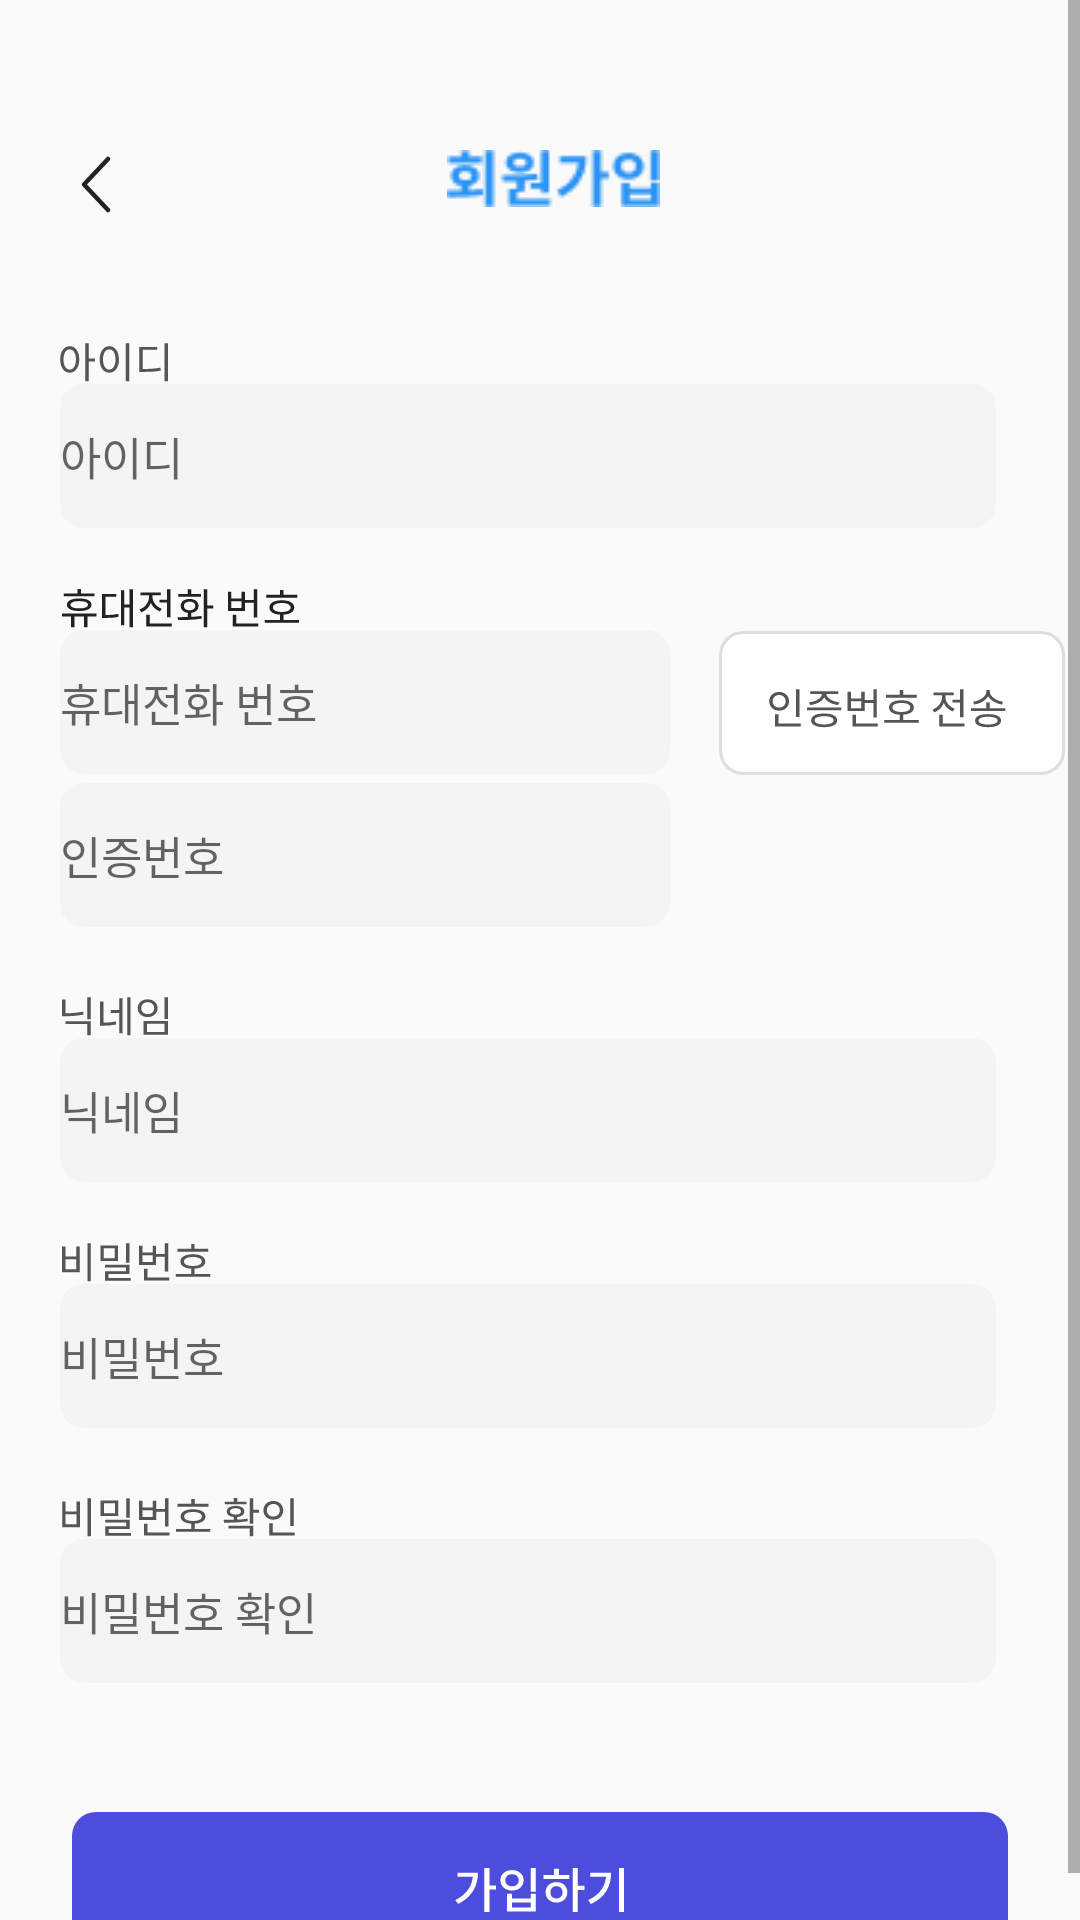

Named icons in this screenshot (1080w x 1920h) and their centers, (x,y):
back: (96,184)
